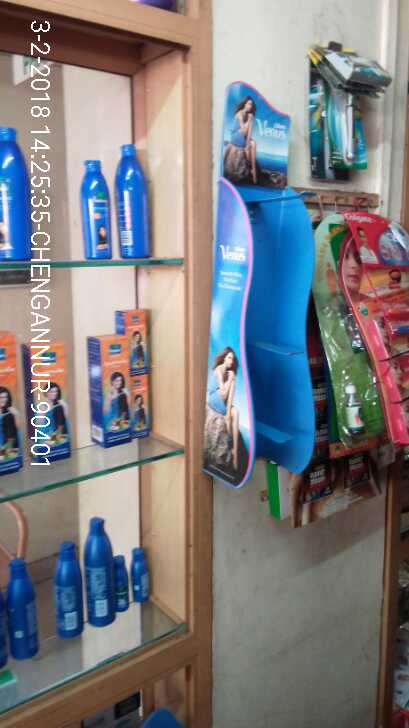reject: (156, 252, 282, 346)
